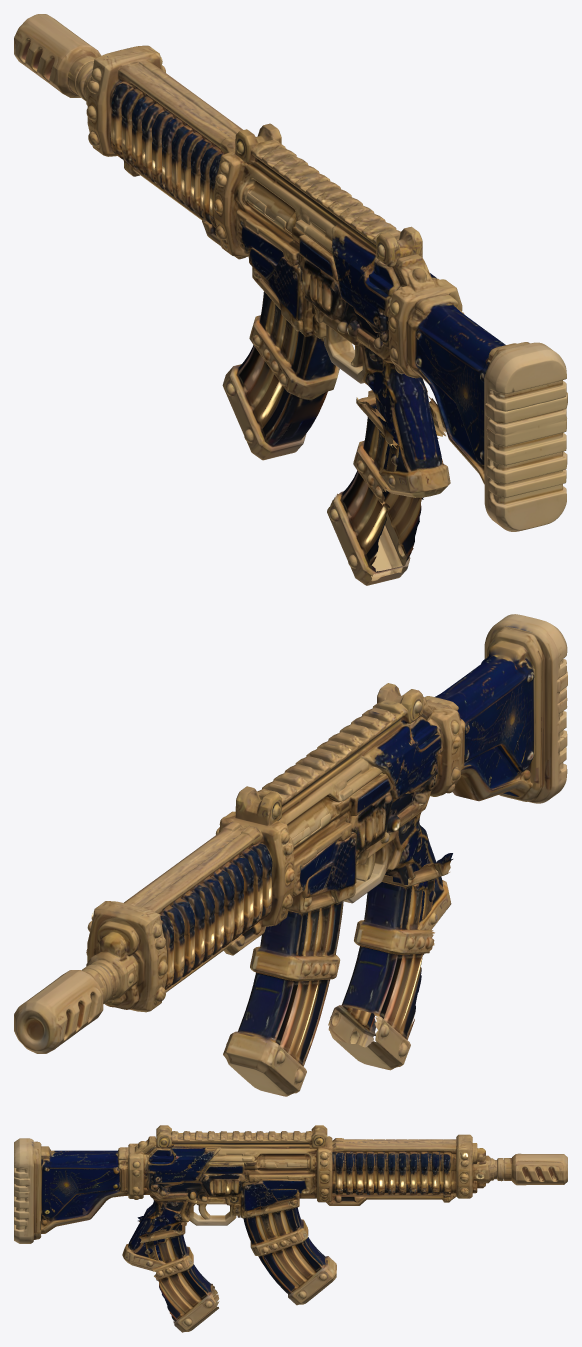
Rendered from AssaultRifle_Vandalorrery.gltf.
3 renders of one model, top to bottom at view 1: azimuth 30°, elevation 25°; view 2: azimuth 150°, elevation 25°; view 3: azimuth 270°, elevation 25°, orthographic. The views are drawn at different scales.
Parts seen in each view (by area): view 1: Gun, Mag; view 2: Gun, Mag; view 3: Gun, Mag.
Boxes of the visible parts, x1=… form: Gun: x1=14, y1=14, x2=567, y2=531; Mag: x1=327, y1=390, x2=446, y2=585; Gun: x1=14, y1=614, x2=567, y2=1096; Mag: x1=328, y1=853, x2=452, y2=1070; Gun: x1=14, y1=1125, x2=567, y2=1305; Mag: x1=137, y1=1216, x2=219, y2=1332.
Size of the model in its own units: 0.0831 by 0.3648 by 0.92.
Materials: 1 (1 with a texture image).
